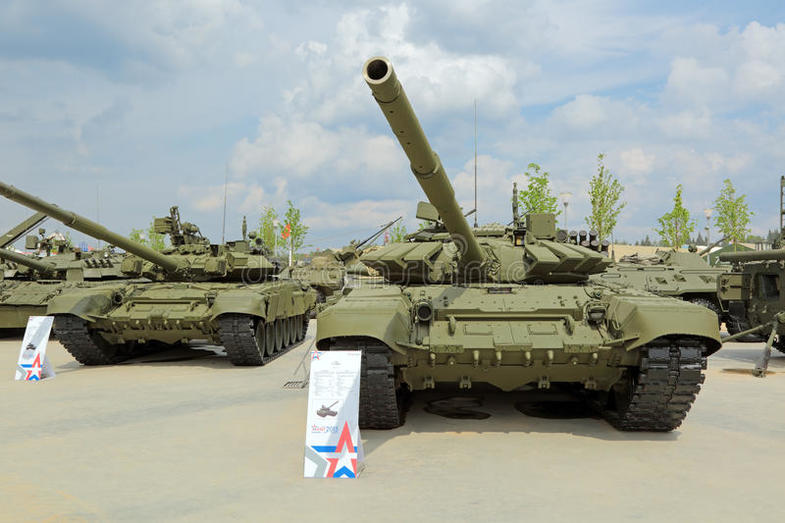t72: (336, 56, 714, 426)
